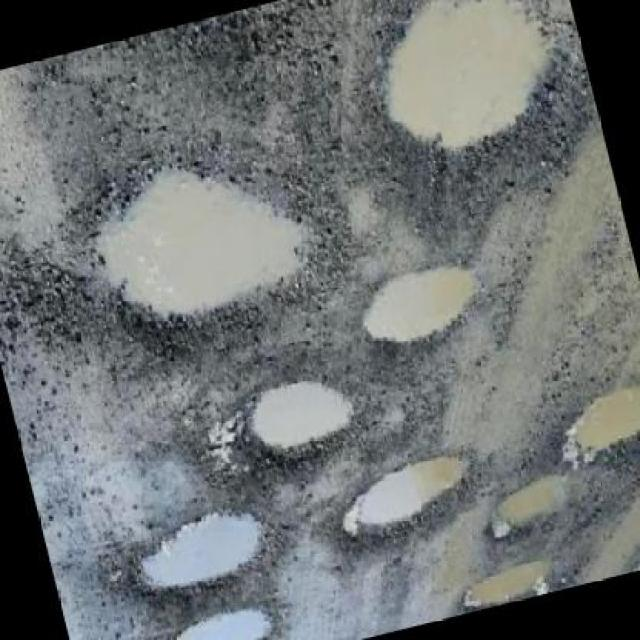pothole1: (60, 124, 345, 370), (348, 0, 582, 189), (120, 496, 288, 622), (322, 446, 492, 568), (346, 256, 491, 370), (236, 368, 364, 481), (552, 375, 638, 474), (484, 468, 588, 542), (449, 552, 562, 614), (157, 603, 283, 639)
